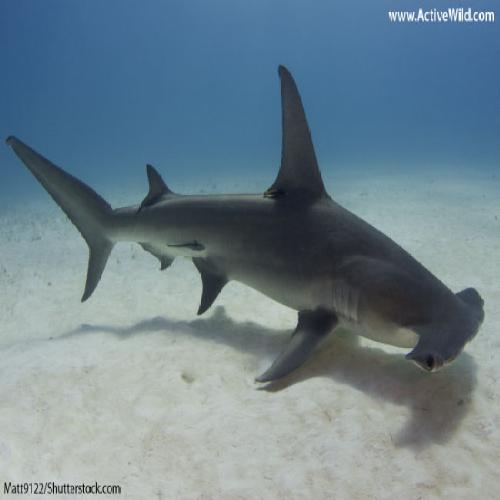shark-endangered: (6, 66, 485, 388)
